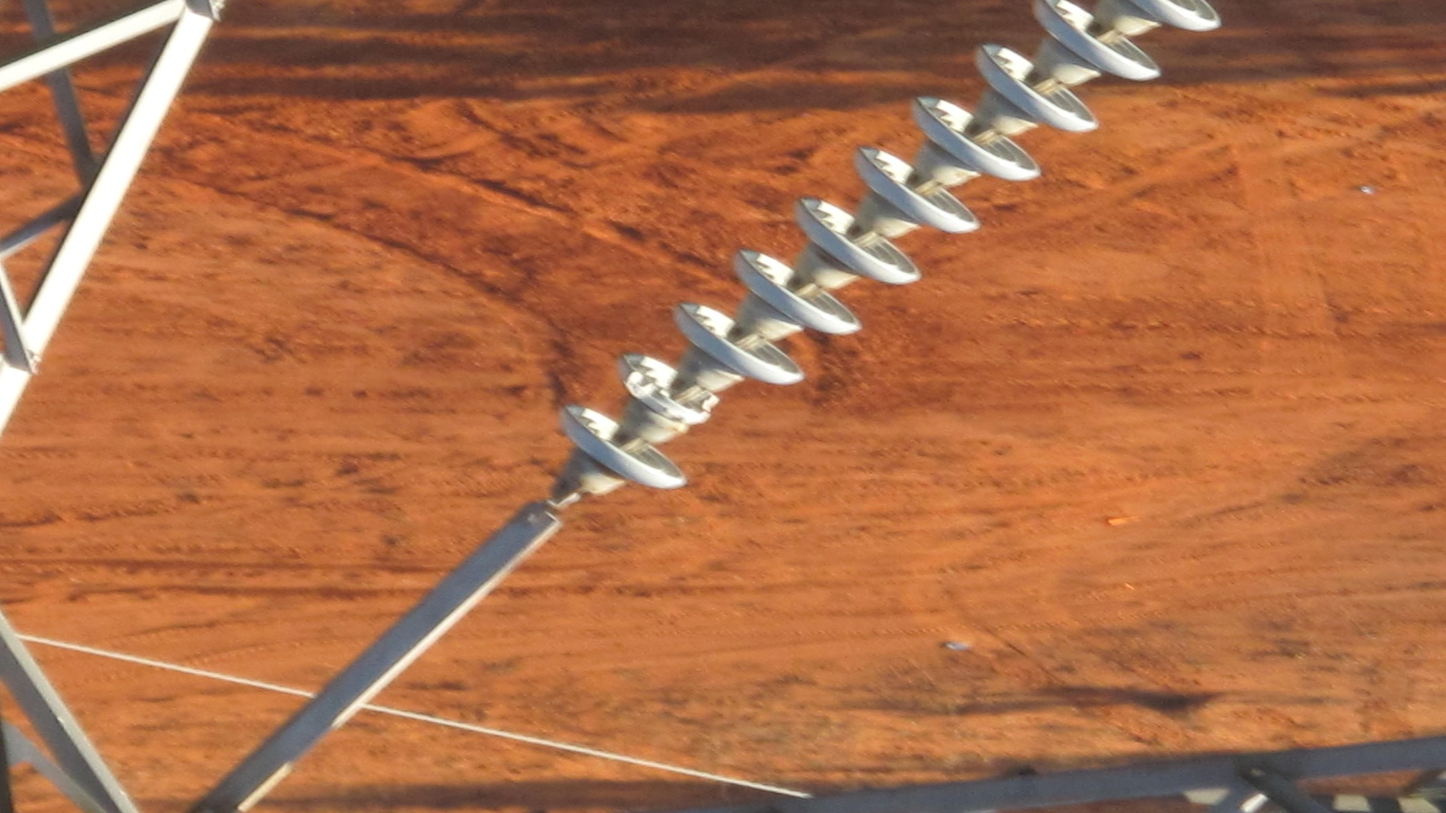insulator: (554, 1, 1227, 498)
insulator_breakage: (619, 351, 721, 426)
